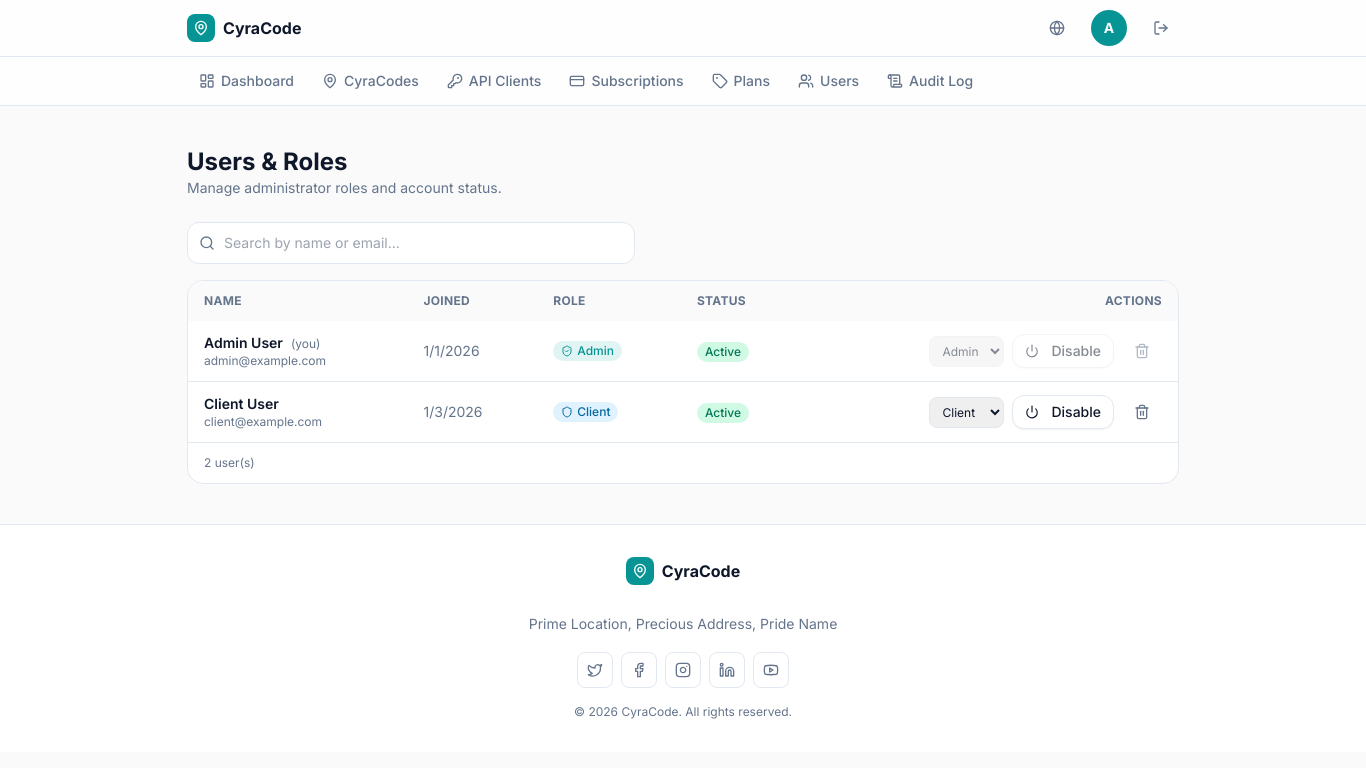
Test: AdminUsers › searches users by email
Expected: the text "client@example.com" is shown, [204,414,322,429]
In the search field labelled "Search by name or email…": x=411, y=243 [187,222,635,264], type "client@"
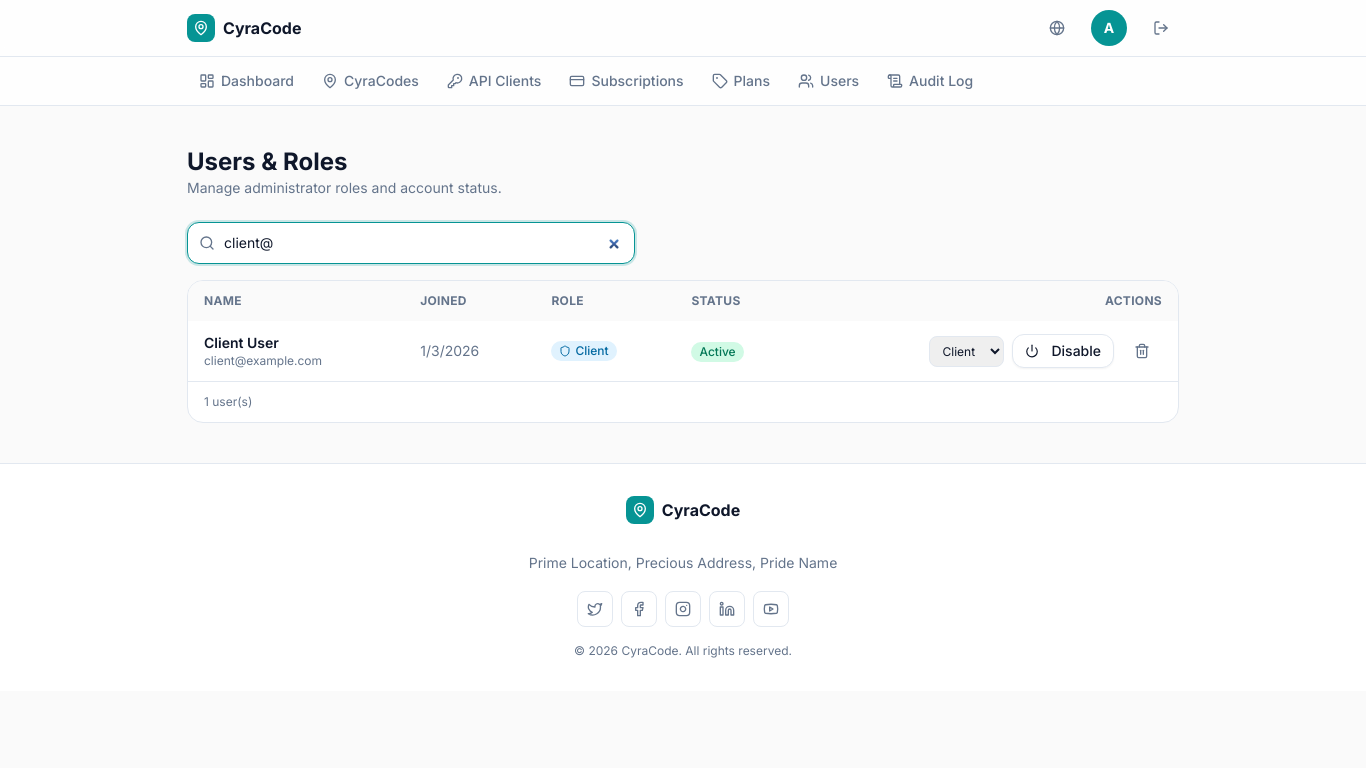
Expected: the text "client@example.com" is shown, [204,353,322,368]
Expected: the text "admin@example.com" is gone
